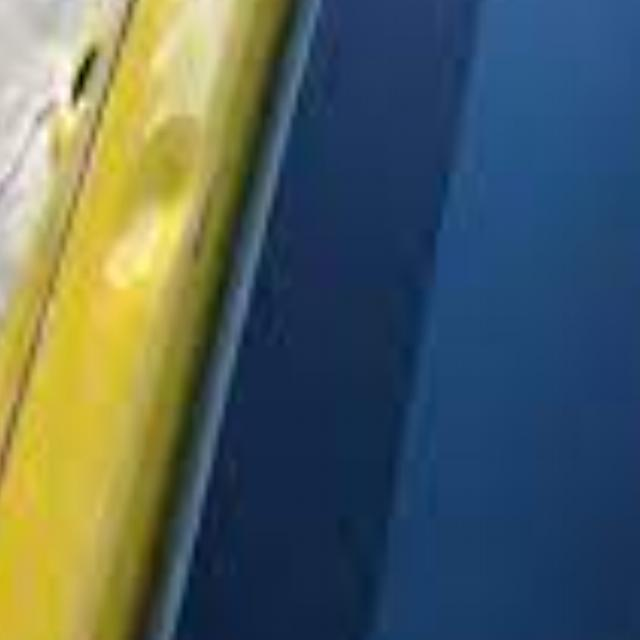dents: (106, 104, 206, 303)
